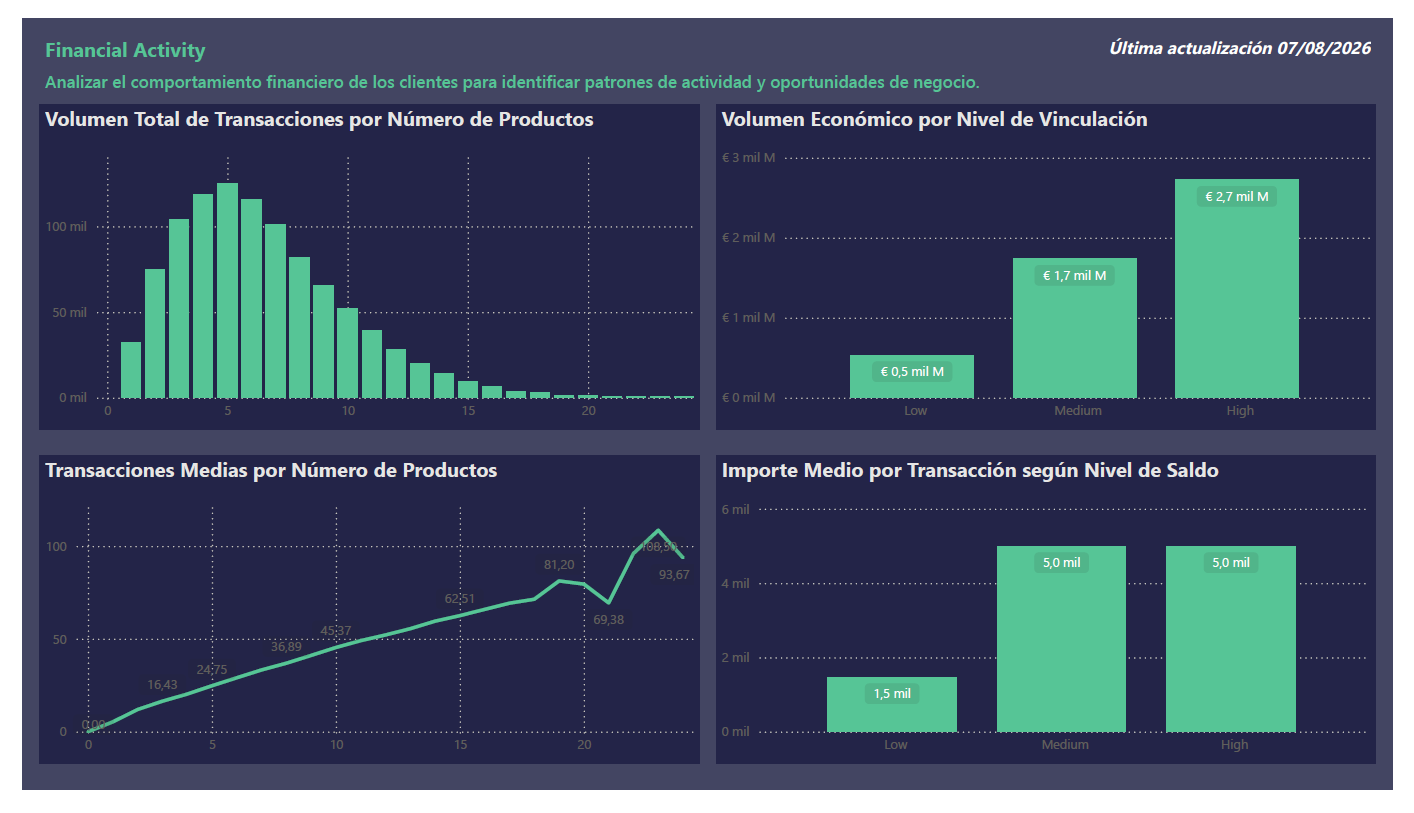

The dashboard page shown, as its layout file describes it:
{"tool":"powerbi","page":{"name":"Financial Activity","canvas":[1280,720],"ordinal":2},"visuals":[{"type":"textbox","title":"Financial Activity","box":[16,16,728,24],"z":0},{"type":"clusteredColumnChart","title":"Volumen Total de Transacciones por Número de Productos","fields":{"Category":["Customers.total_products"],"Y":["Sum(Customers.total_transactions)"]},"box":[16,80,616,304],"z":0,"group":"g1"},{"type":"clusteredColumnChart","title":"Importe Medio por Transacción según Nivel de Saldo","fields":{"Y":["Measure.Average Transaction Amount"],"Category":["Customers.balance_level"]},"box":[648,408,616,288],"z":0,"group":"g2"},{"type":"lineChart","title":"Transacciones Medias por Número de Productos","fields":{"Category":["Customers.total_products"],"Y":["Avg(Customers.total_transactions)"]},"box":[16,408,616,288],"z":1000},{"type":"clusteredColumnChart","title":"Volumen Económico por Nivel de Vinculación","fields":{"Category":["Customers.engagement_level"],"Y":["Sum(Customers.total_transaction_amount)"]},"box":[648,80,616,304],"z":2000},{"type":"group","id":"g1","title":"Grupo 4","box":[16,80,616,304],"z":3000},{"type":"textbox","title":"Analizar el comportamiento financiero de los clientes para identificar patrones de actividad y oportunidades de negocio.","box":[16,48,1248,24],"z":4000},{"type":"group","id":"g2","title":"Grupo 4","box":[648,408,616,288],"z":5000},{"type":"textbox","title":"Fecha de análisis 07/08/2026","box":[872,16,392,24],"z":6000}]}

Visuals, with their boxes in screenshot pixels (x1, y1, x2, y2), scaled from the page's 1280x720 canvas onto the 1414x813 screenshot:
"Financial Activity" textbox: x1=18 y1=18 x2=822 y2=45
"Volumen Total de Transacciones por Número de Productos" clusteredColumnChart: x1=18 y1=90 x2=698 y2=434
"Importe Medio por Transacción según Nivel de Saldo" clusteredColumnChart: x1=716 y1=461 x2=1396 y2=786
"Transacciones Medias por Número de Productos" lineChart: x1=18 y1=461 x2=698 y2=786
"Volumen Económico por Nivel de Vinculación" clusteredColumnChart: x1=716 y1=90 x2=1396 y2=434
"Grupo 4" group: x1=18 y1=90 x2=698 y2=434
"Analizar el comportamiento financiero de los clientes para identificar patrones de actividad y oportunidades de negocio." textbox: x1=18 y1=54 x2=1396 y2=81
"Grupo 4" group: x1=716 y1=461 x2=1396 y2=786
"Fecha de análisis 07/08/2026" textbox: x1=963 y1=18 x2=1396 y2=45
